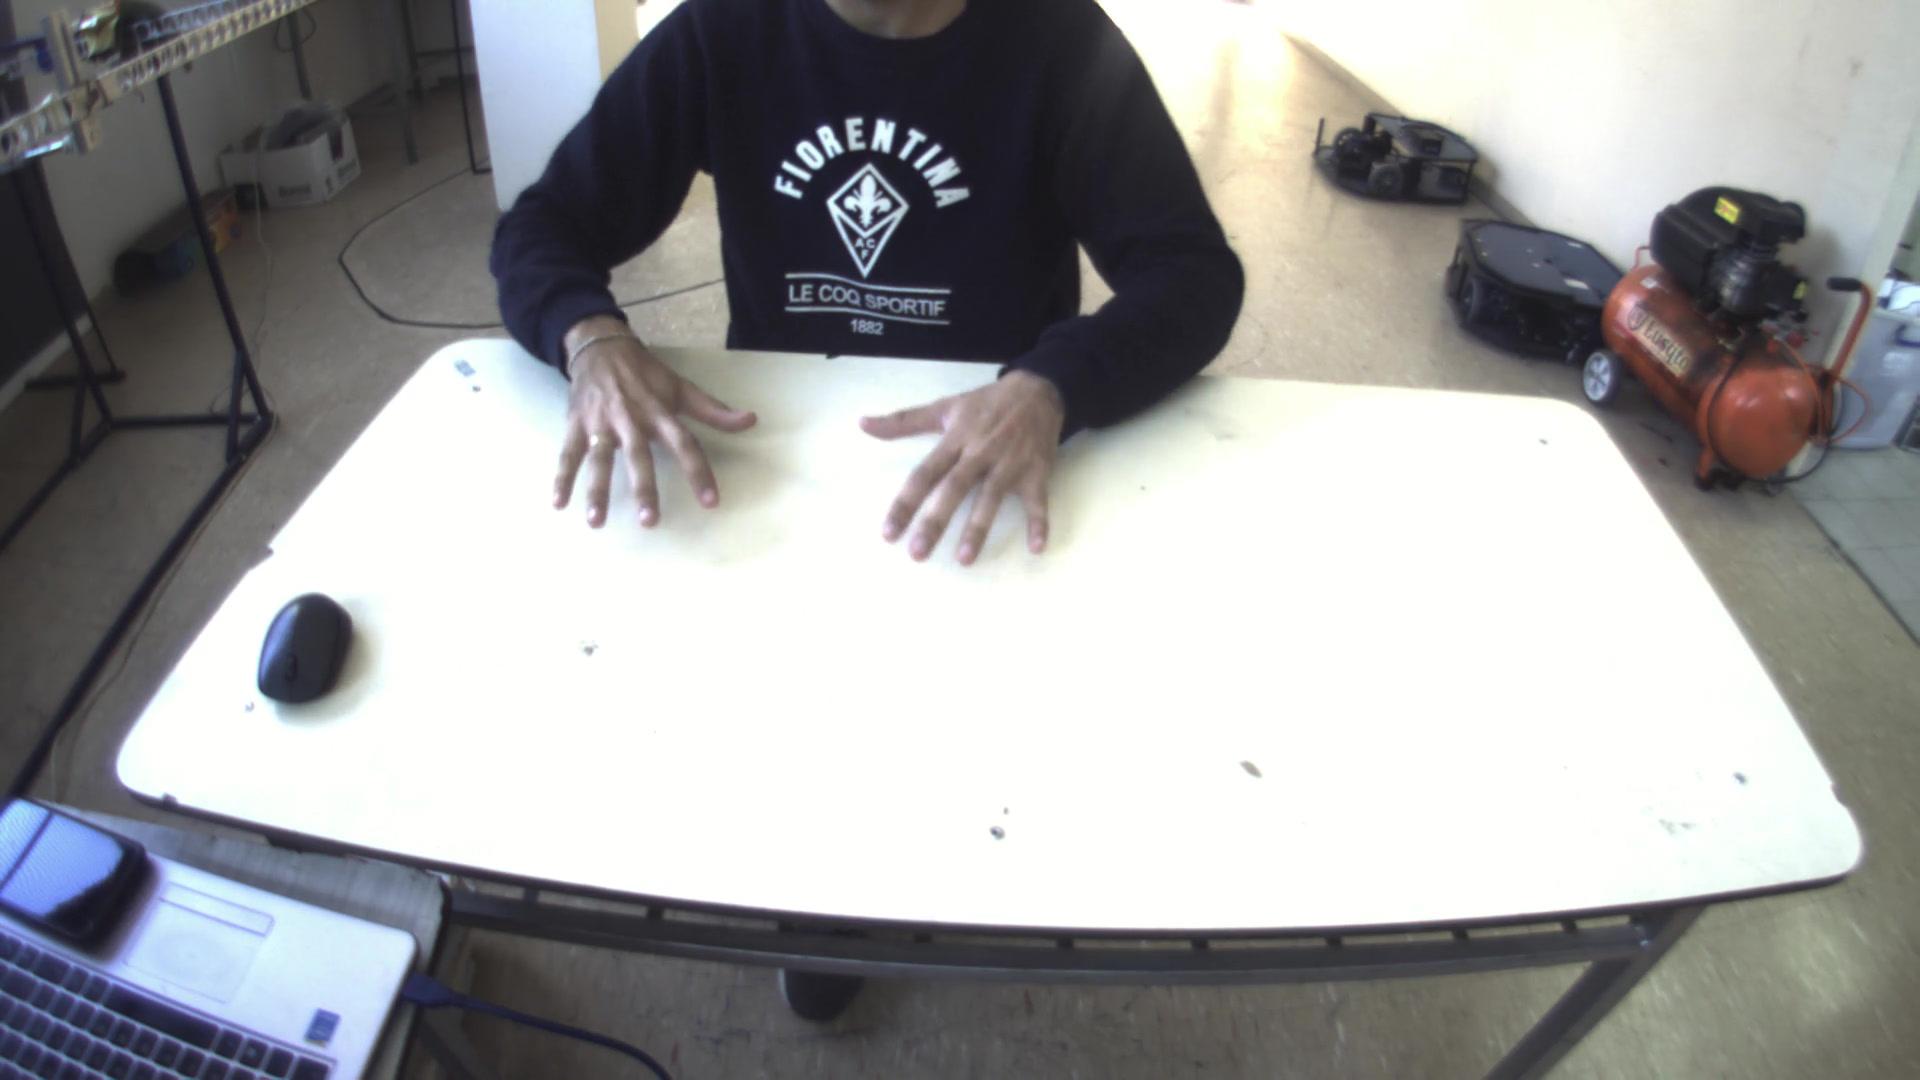hand: (534, 318, 765, 530), (851, 357, 1075, 574)
